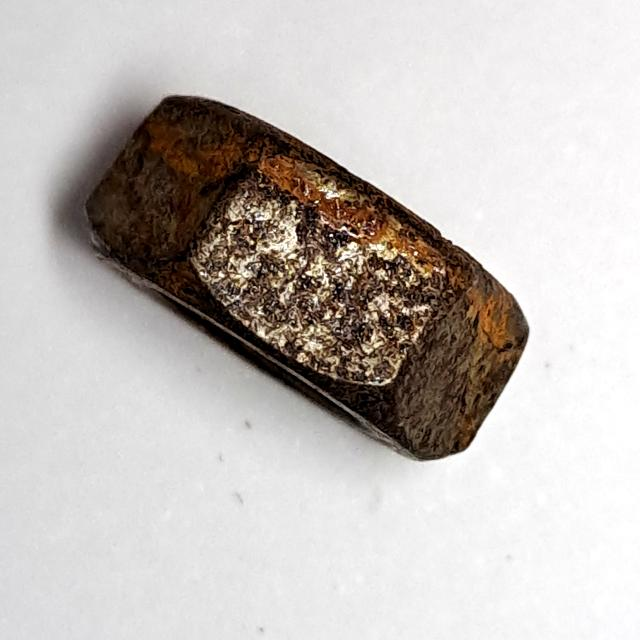Side_Rust: (72, 85, 555, 474)
